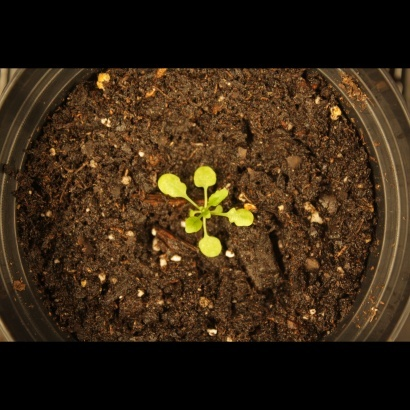leaf: (189, 161, 224, 189), (156, 173, 190, 200), (197, 233, 224, 260), (226, 206, 256, 229), (180, 213, 203, 236), (209, 186, 232, 209)
